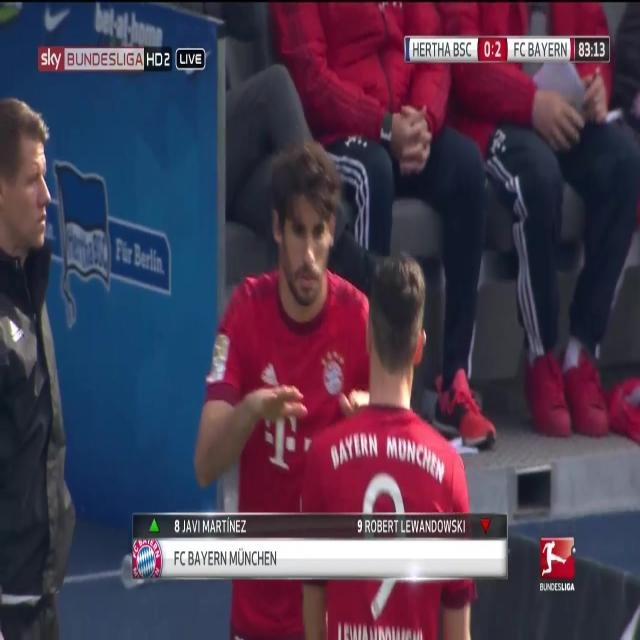Player: (192, 142, 370, 628), (298, 243, 474, 640)
